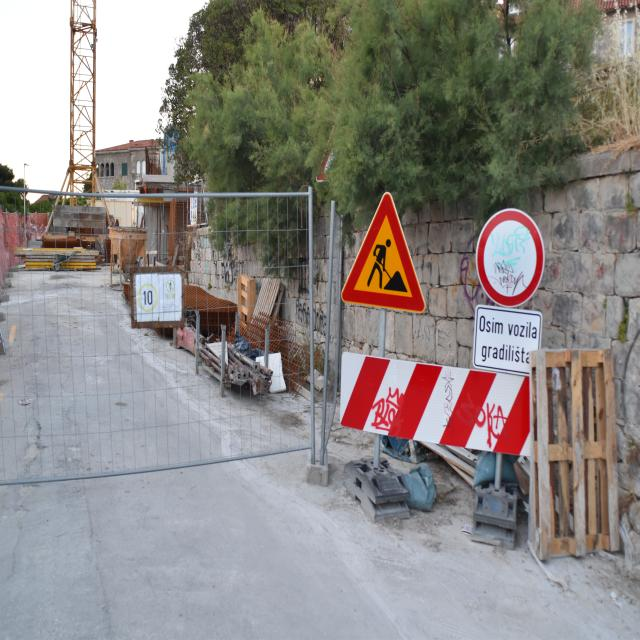entulho: (532, 349, 620, 558), (195, 339, 273, 396), (186, 284, 237, 338), (430, 440, 486, 489), (401, 462, 441, 507), (254, 280, 287, 334), (18, 250, 99, 268), (260, 352, 283, 396), (238, 274, 254, 334), (177, 326, 201, 364), (510, 454, 532, 488), (168, 244, 184, 266)
